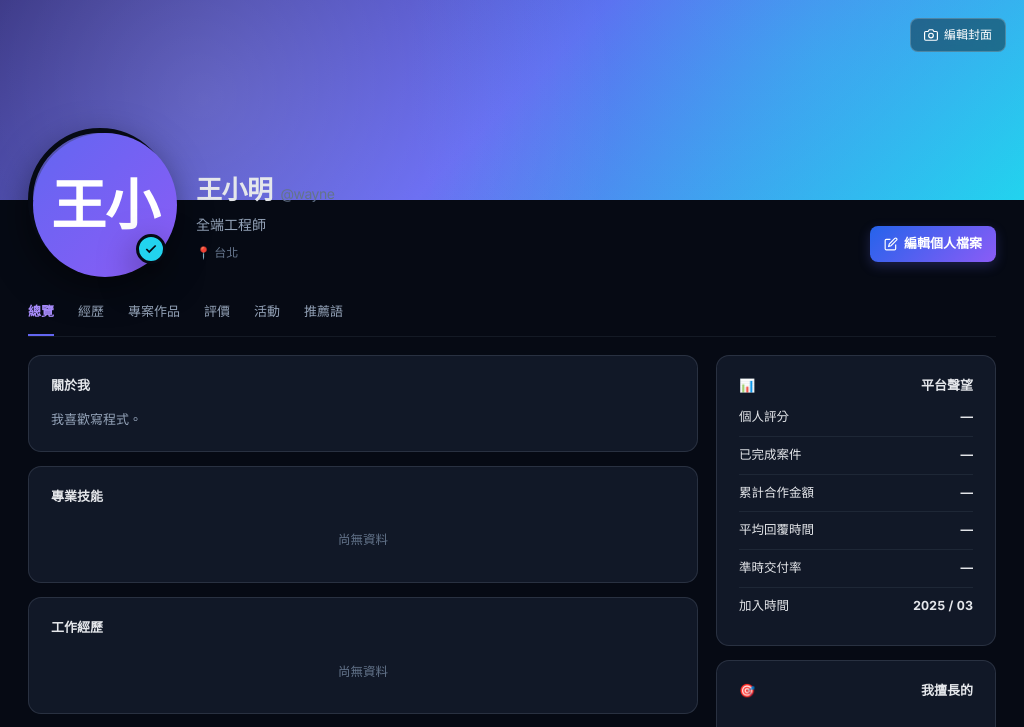
Test: ProfilePage — own edit › shows the validation message when the API returns VALIDATION_ERROR
The width and height of the screenshot is (1024, 727).
Click the button "編輯個人檔案" at {"x": 933, "y": 244}, box [870,226,996,262]
(page scrolled)
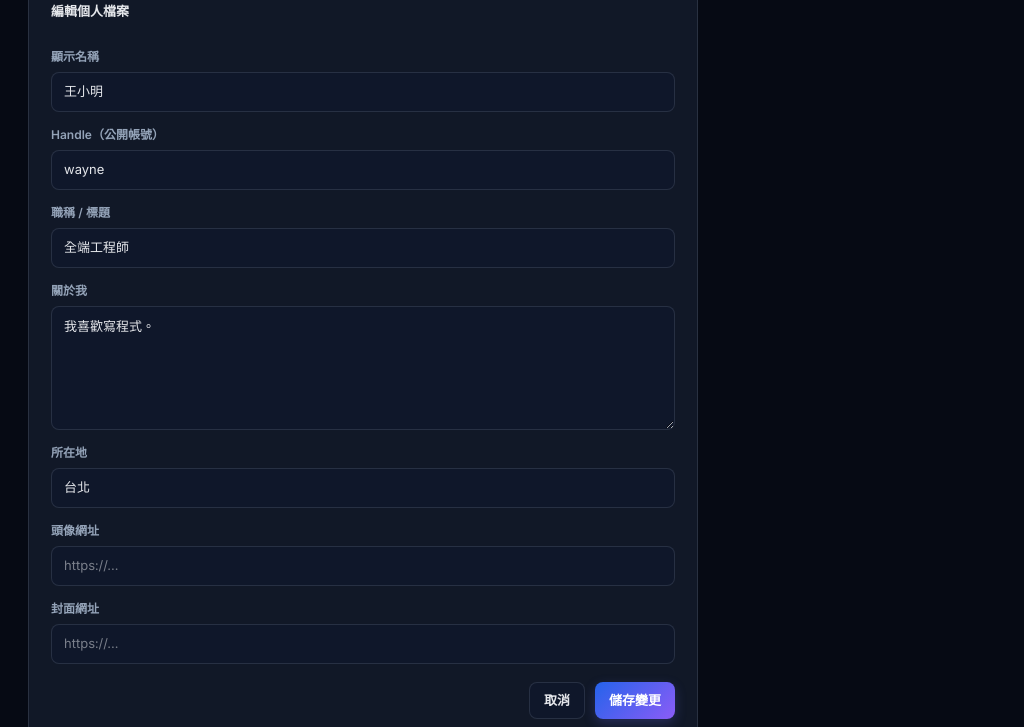
Click the button "儲存變更" at {"x": 635, "y": 701}, box [595,682,675,720]
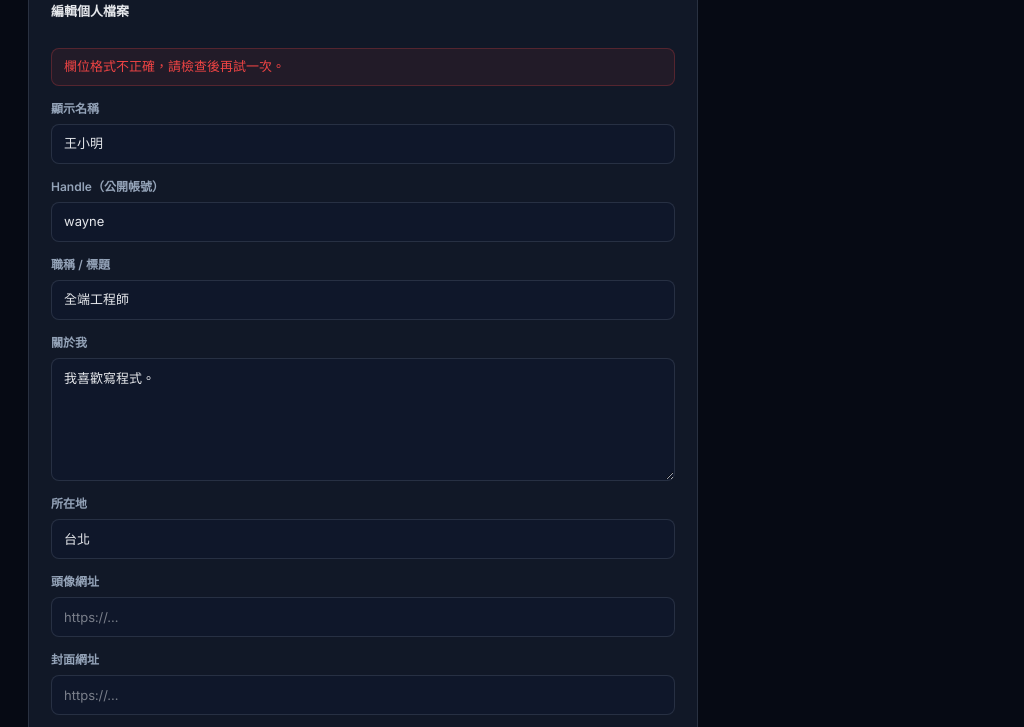
Result: the text "欄位格式不正確，請檢查後再試一次。" is shown at [51,48,675,86]
